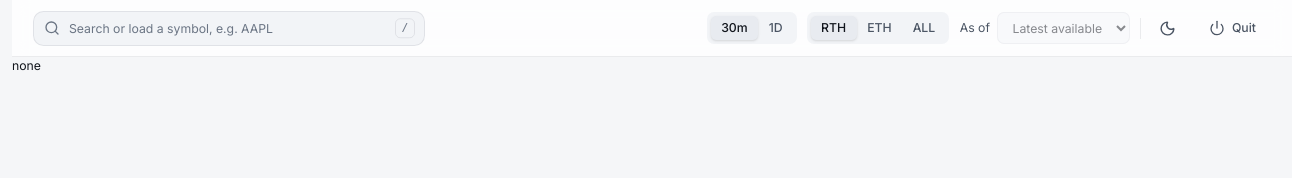
Test: typing a symbol in the top bar › offers to load it, then selects the new dataset once the instrument list contains it
Step 1. Type "spy" into the dropdown named "Search instruments" → (229, 28), box [33,10,425,46]
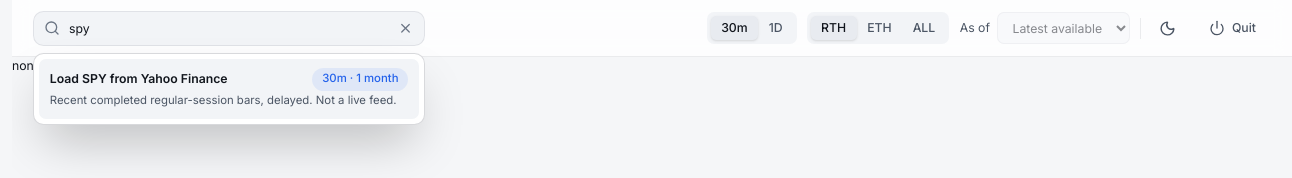
Expected: the option "Load SPY from Yahoo Finance" shows "Not a live feed", [39,59,419,119]
Step 2. Press Enter in the dropdown named "Search instruments", box [33,10,425,46]
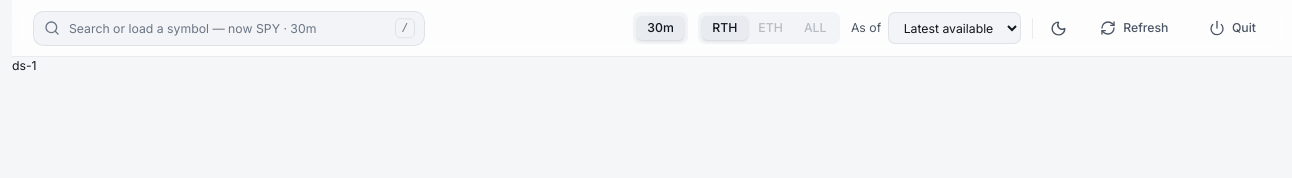
Expected: the text with test id "selected" reads "ds-1", [12,58,37,73]
